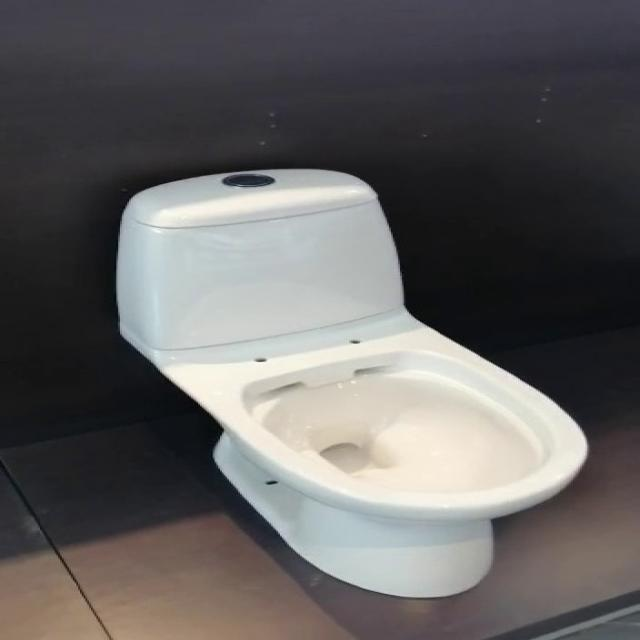toilet: (115, 167, 589, 598)
